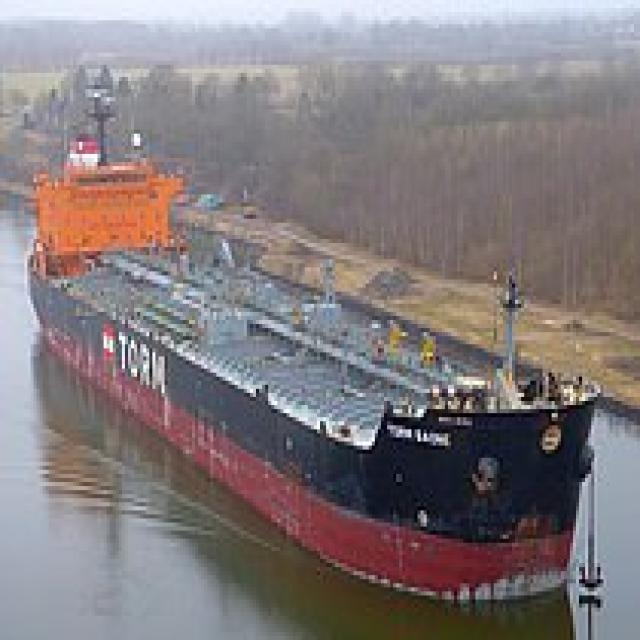Tanker: (24, 85, 600, 600)
